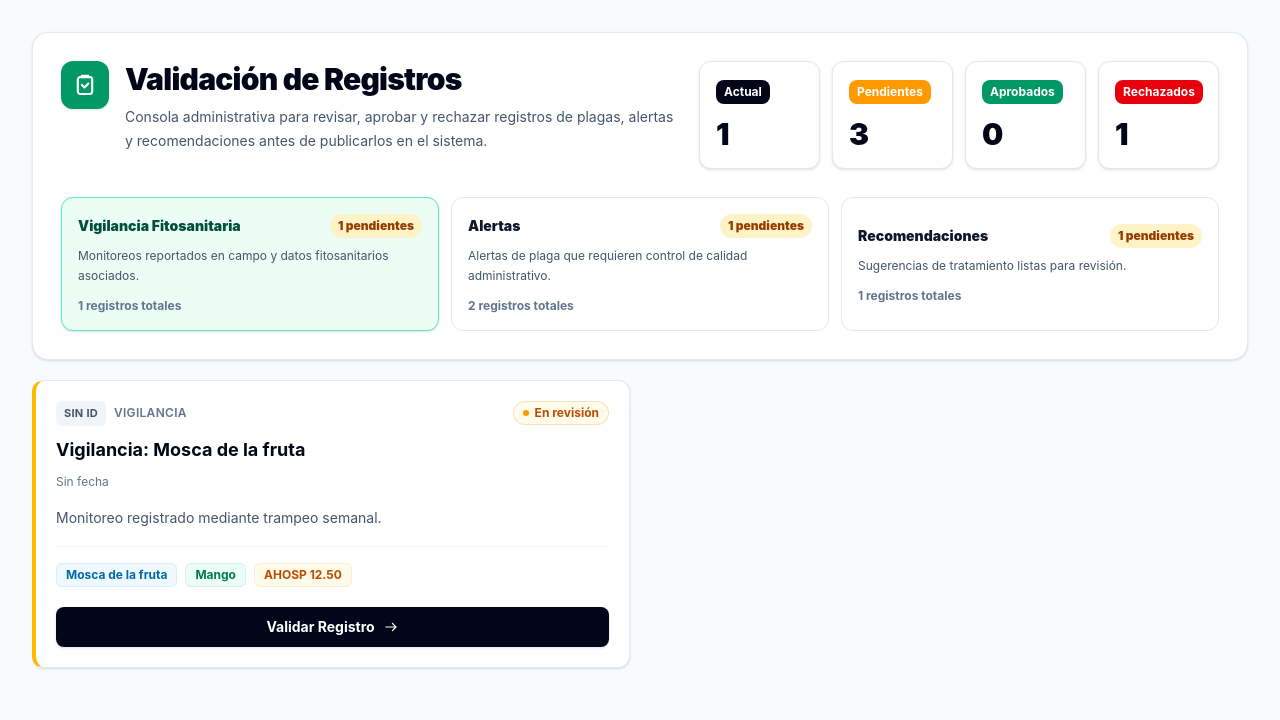
Scenario: ValidacionPanel › does not submit validation when a record id is invalid
Click the button with test id "validate-button" at (332, 627), box [56,607,609,647]
(page scrolled)
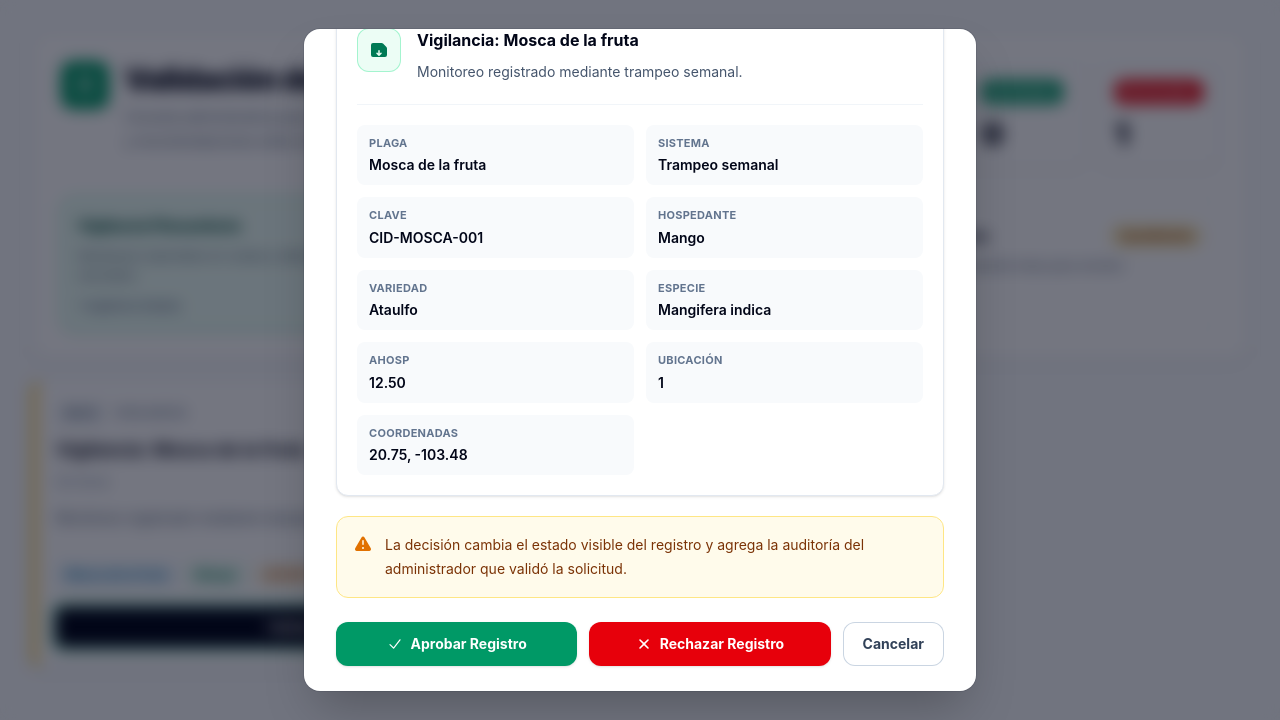
Click the button with test id "modal-accept-button" at (457, 644), box [336,622,577,666]
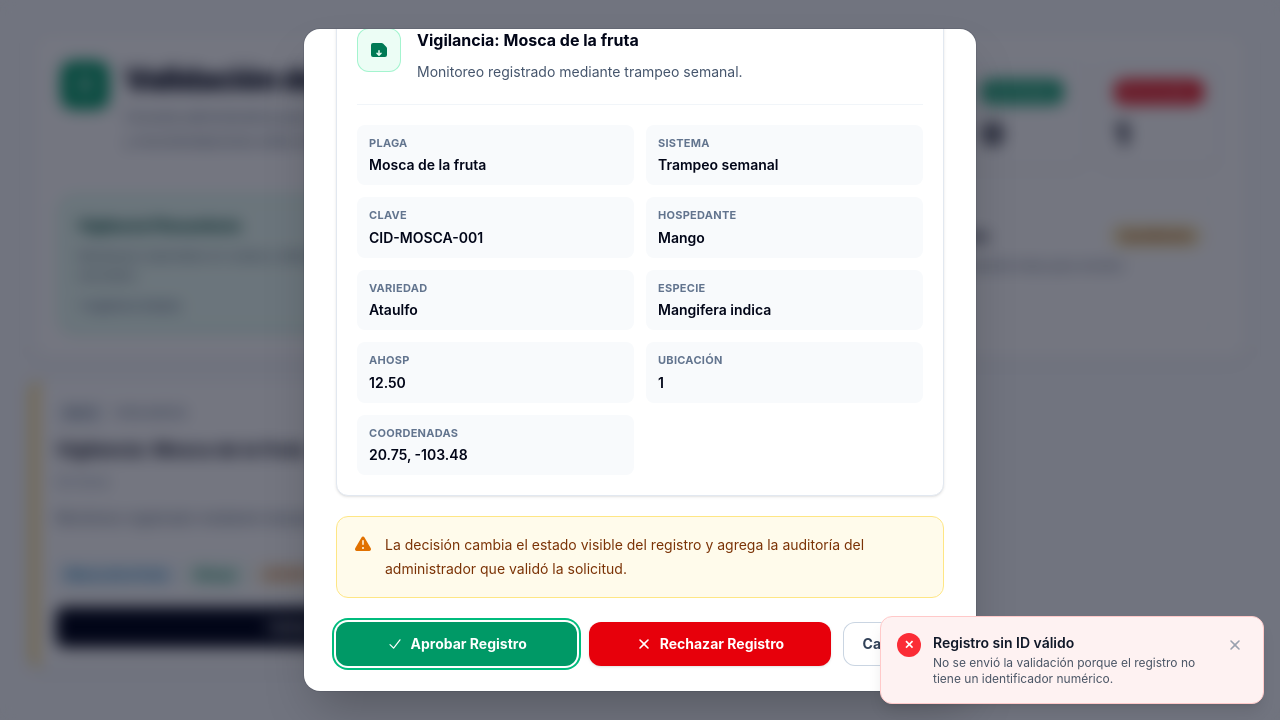
Now the text "Registro sin ID válido" is shown, box [933,634,1074,651]
